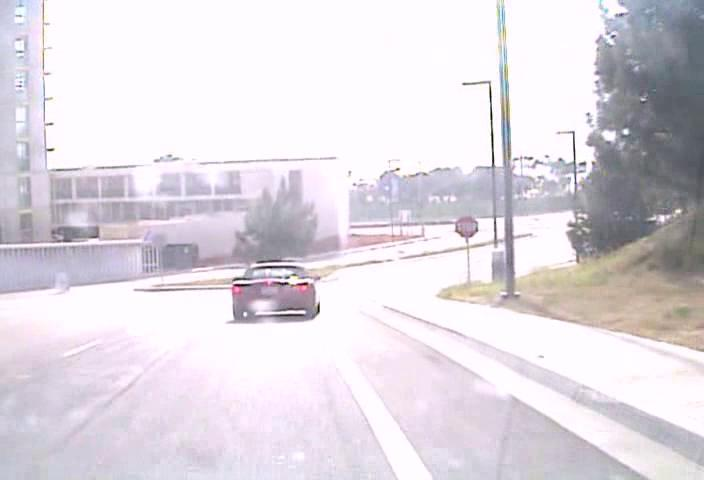stop: (454, 215, 479, 238)
